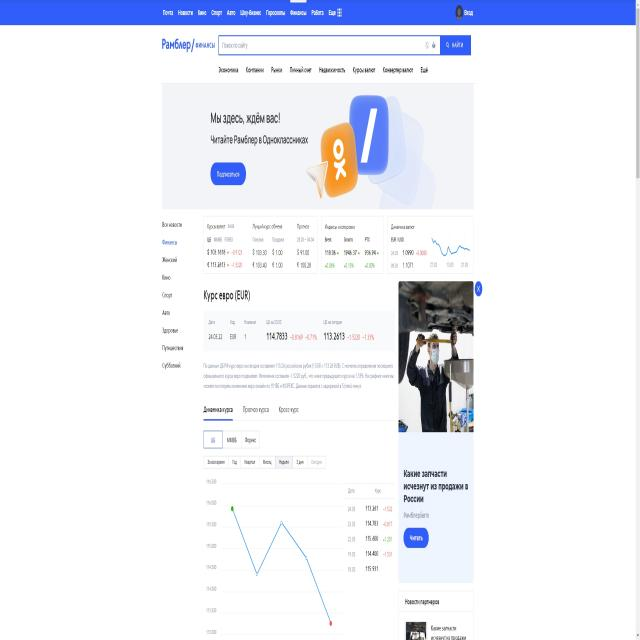content: (204, 359, 395, 394)
search: (219, 33, 472, 56)
tab-bar: (216, 60, 431, 76), (200, 399, 304, 420)
